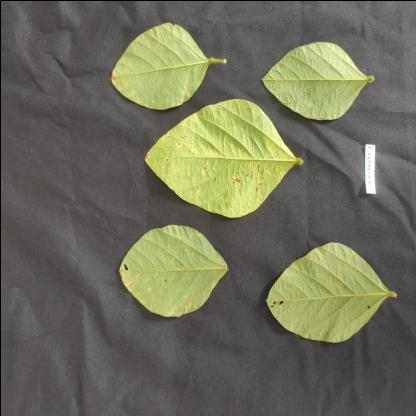label: (345, 134, 379, 200)
leaflets: (129, 98, 301, 222), (254, 235, 415, 355), (250, 27, 398, 128), (94, 1, 225, 115), (100, 214, 224, 318)
